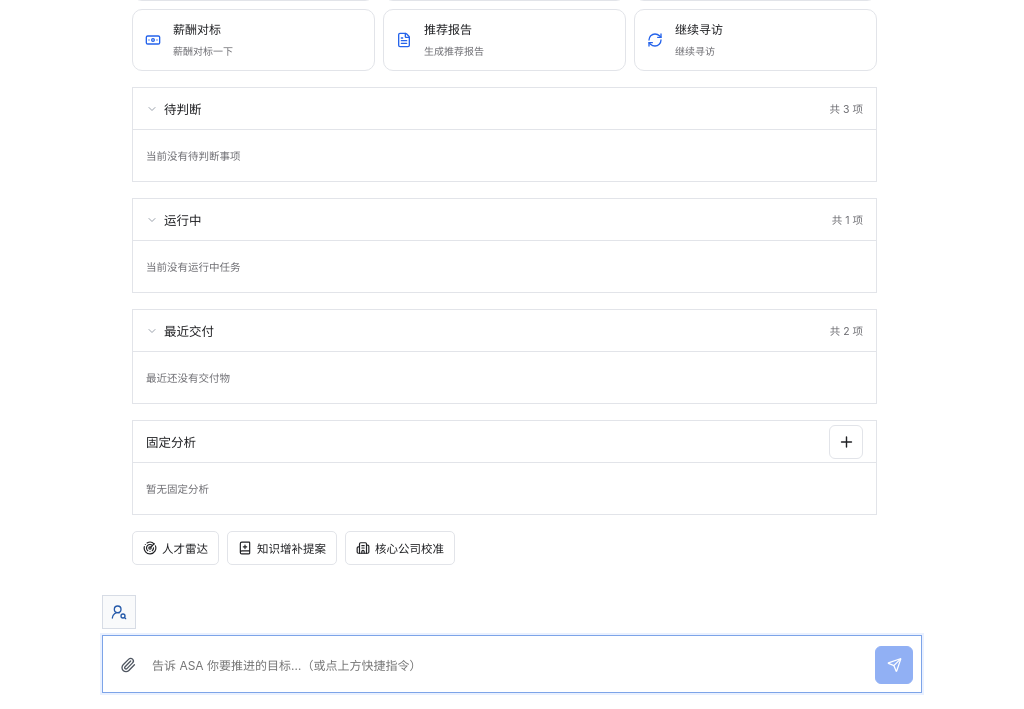
Test case: Agent workspace › Agent 首页可展开人才雷达并保持四入口主导航之外的模块可达
This screenshot has width=1024, height=709.
(page scrolled)
Click the button "人才雷达" at (176, 548), box [132,531,219,565]
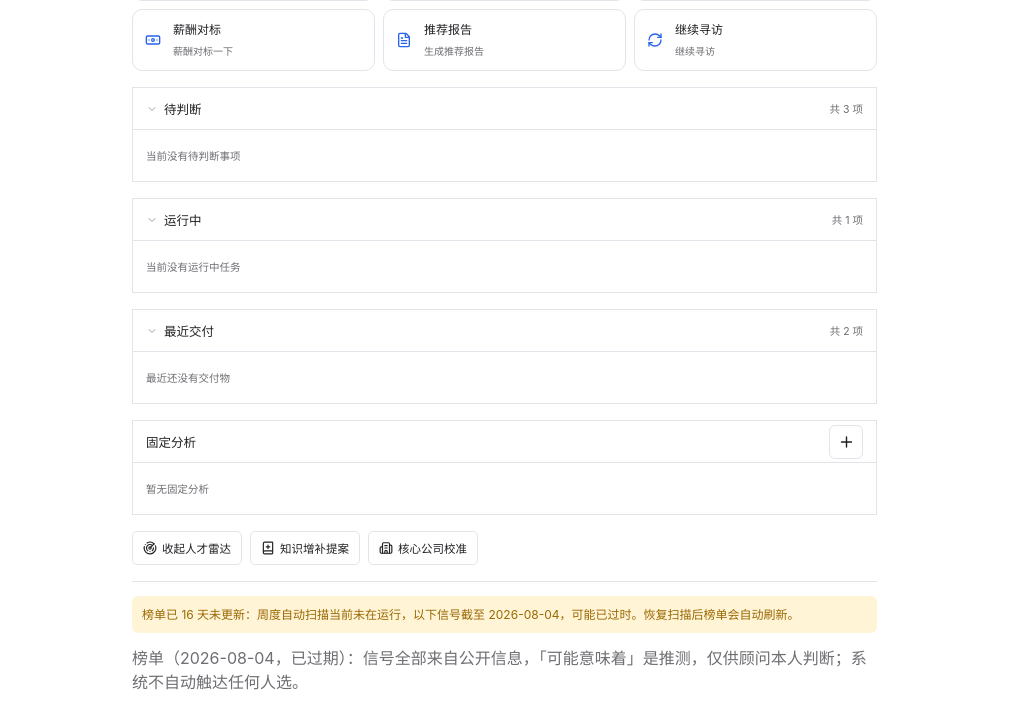
Expected: the button "收起人才雷达" is shown, [132,531,242,565]
